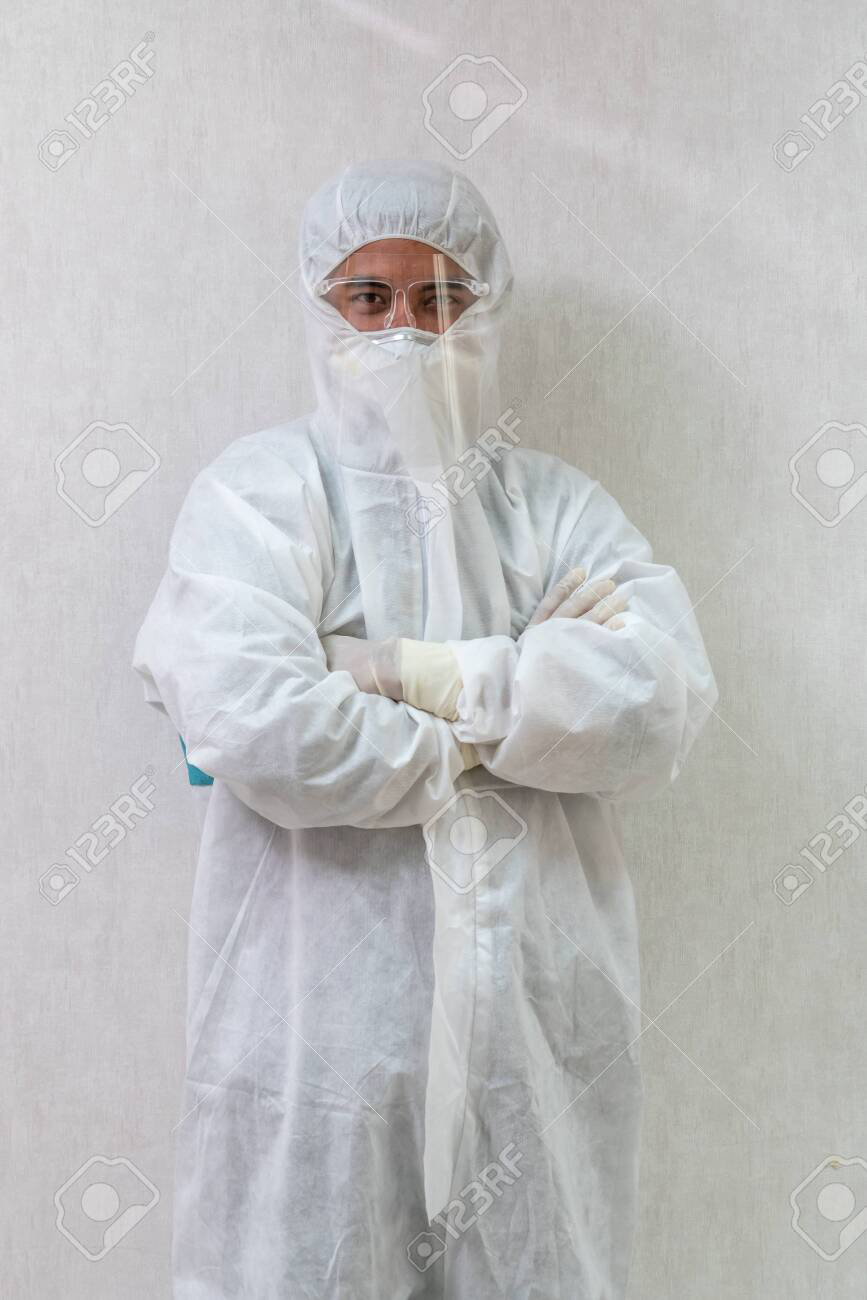Coverall: (149, 161, 713, 1300)
with_mask: (309, 275, 501, 430)
